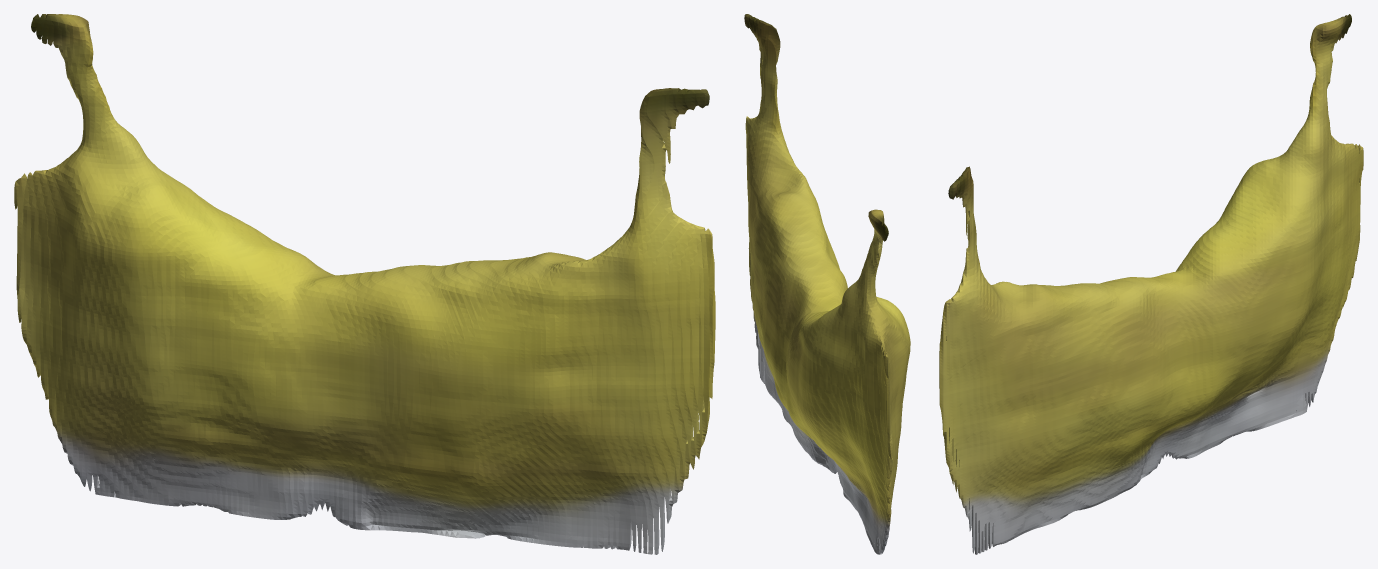
Rendered from banana.glb.
3 views of the same model, side by side, from view 1: azimuth 30°, elevation 25°; view 2: azimuth 150°, elevation 25°; view 3: azimuth 270°, elevation 25° (orthographic). The views are drawn at different scales.
Visible parts, largest first — view 1: tmpfpyxi4x6.ply; view 2: tmpfpyxi4x6.ply; view 3: tmpfpyxi4x6.ply.
Part boxes in pixels (x1,y1,x2,y2): tmpfpyxi4x6.ply: (14, 14, 715, 554); tmpfpyxi4x6.ply: (744, 14, 910, 554); tmpfpyxi4x6.ply: (939, 14, 1363, 554).
Bounding box in the file's own units: 1.96 × 1.98 × 1.98.
